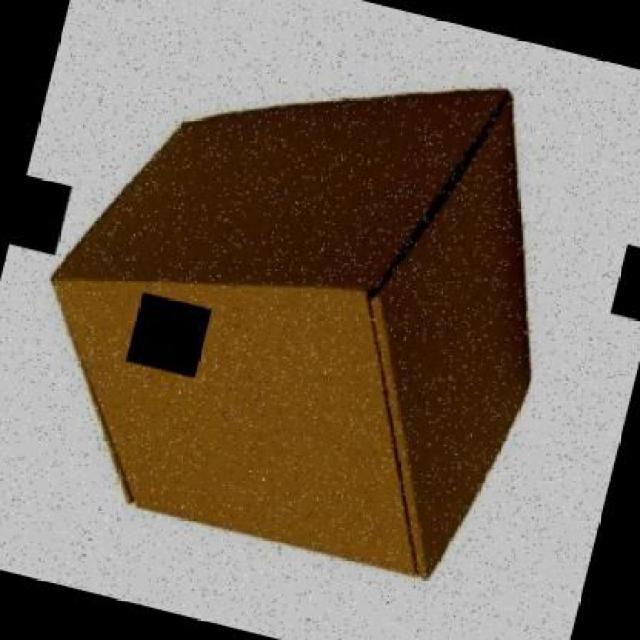box: (0, 0, 600, 603)
